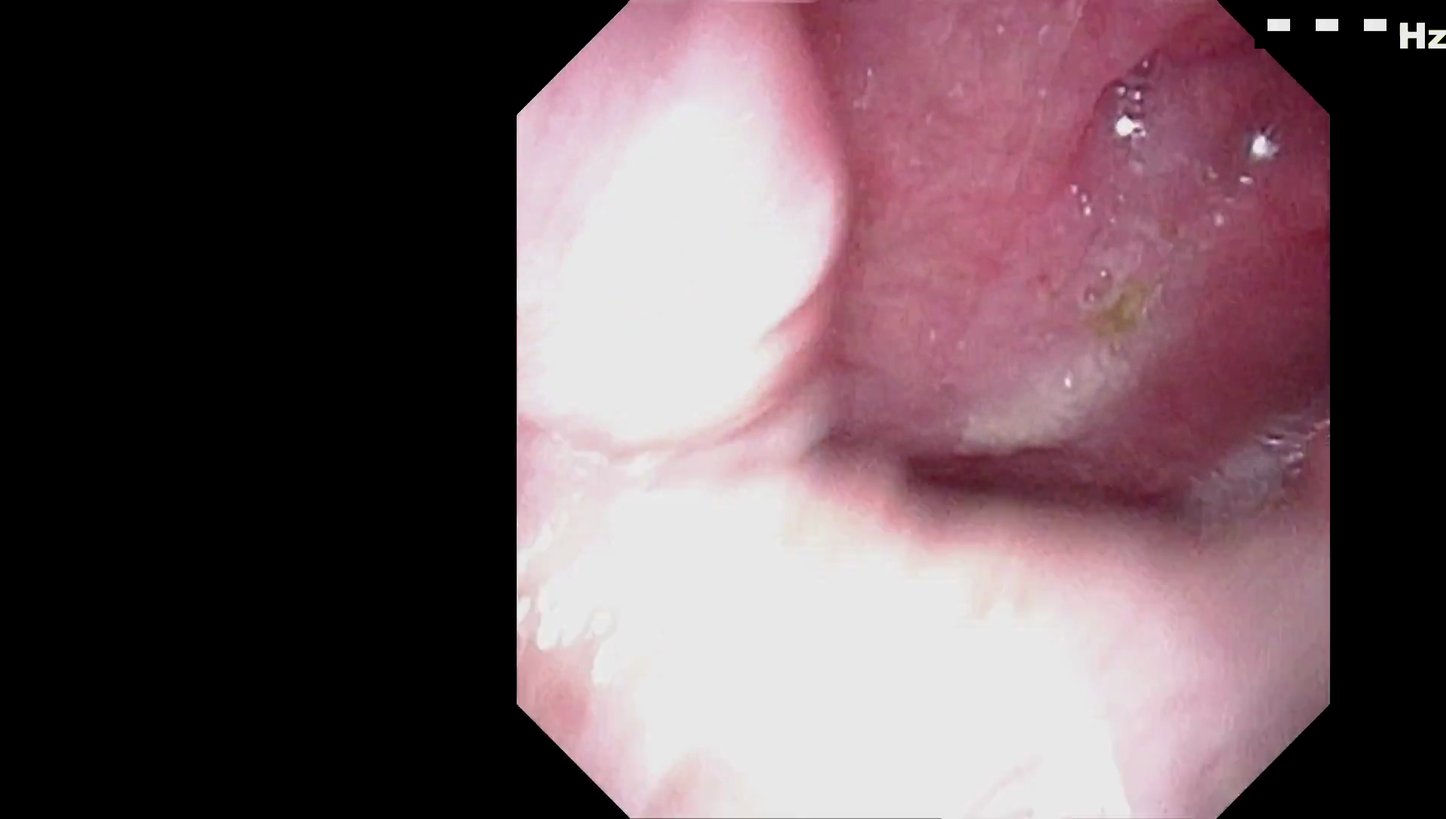close_wall: (541, 431, 1239, 817), (548, 93, 883, 700)
next: (906, 400, 1215, 550)
